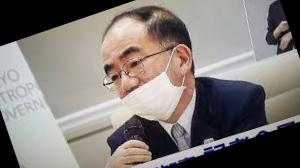mask_weared_incorrect: (91, 34, 186, 123)
